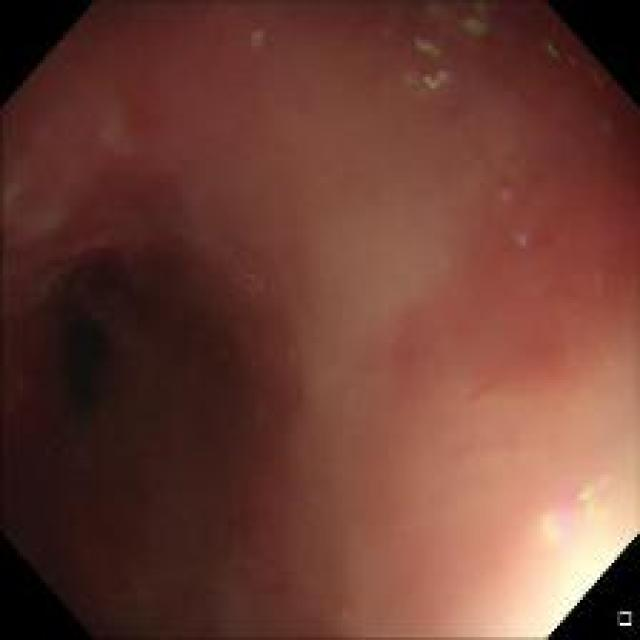bubbles: (241, 265, 262, 289)
color misalignment: (536, 36, 590, 70), (416, 46, 455, 91), (95, 111, 141, 149), (582, 64, 605, 98), (491, 171, 519, 198), (509, 224, 535, 249), (242, 20, 265, 46)
contrast: (16, 236, 268, 560)
saturation: (524, 484, 636, 635)
